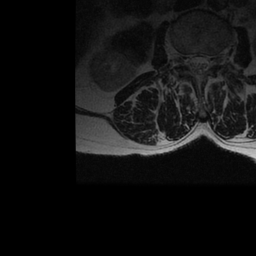CCS_normal: (194, 46, 201, 81)
LFS_normal: (210, 46, 220, 73)
LLS_normal: (201, 46, 210, 78)
RFS_normal: (178, 45, 186, 73)
RLS_normal: (186, 46, 194, 77)
